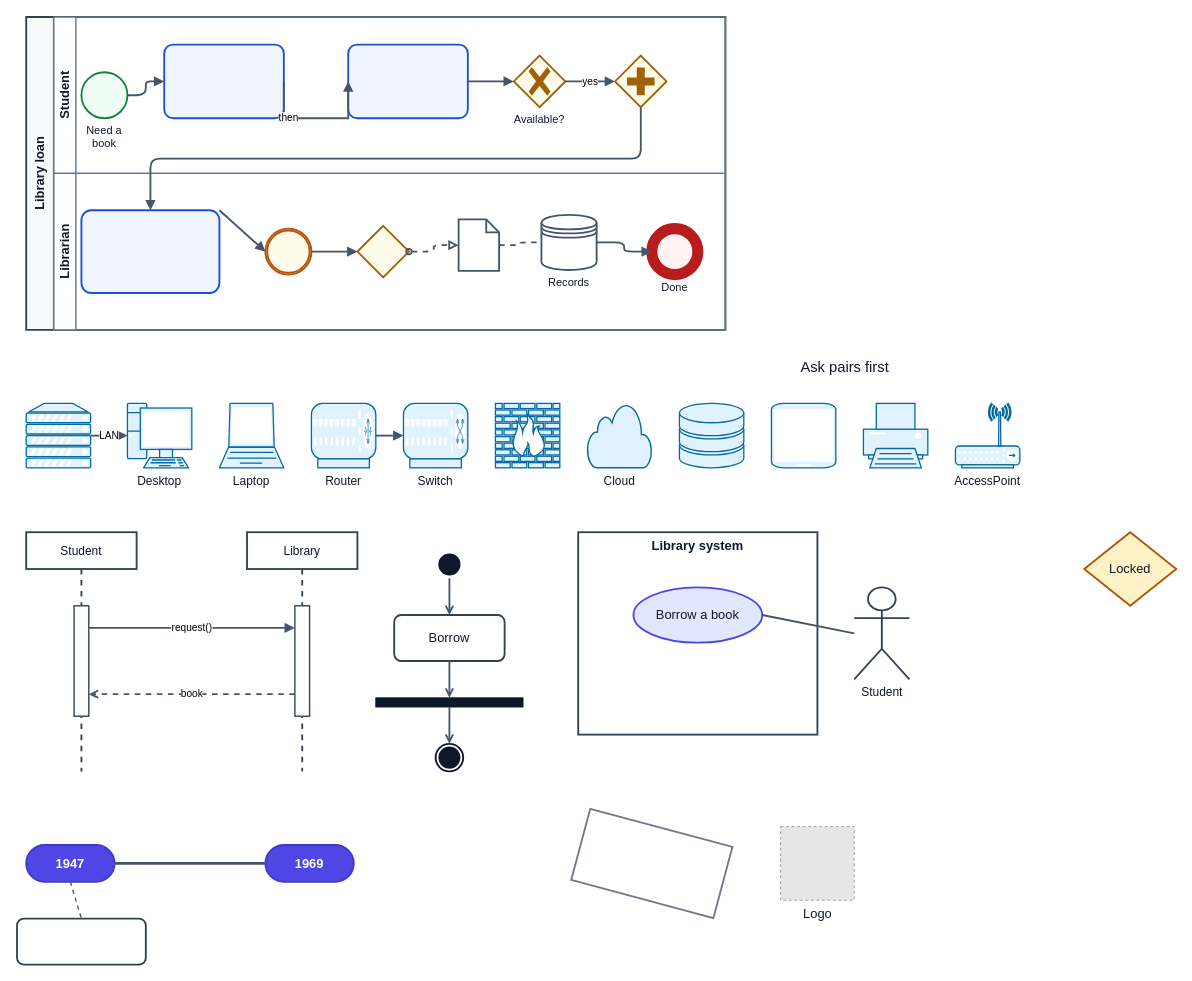
The diagram is 1192 pixels wide and 981 high, and some of its shapes have lost their labels. Grey dashed boxes stand in for pictures. The shapes that lost their labels are listed below. From the top down, each one's centre as x and y in pixels, then its label:
point (223, 81): Search catalogue
point (407, 81): Reserve copy
point (150, 251): Check out
point (288, 251): Due date
point (478, 244): Loan slip
point (58, 435): School server
point (527, 435): Firewall
point (711, 435): Database
point (803, 435): Mobile
point (895, 435): Printer
point (651, 863): Styled & "quoted"
point (81, 941): Independence
